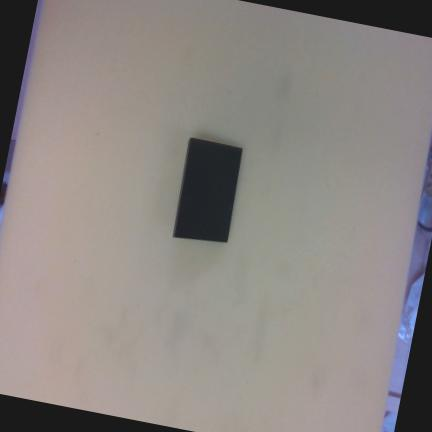tile: (174, 136, 244, 246)
